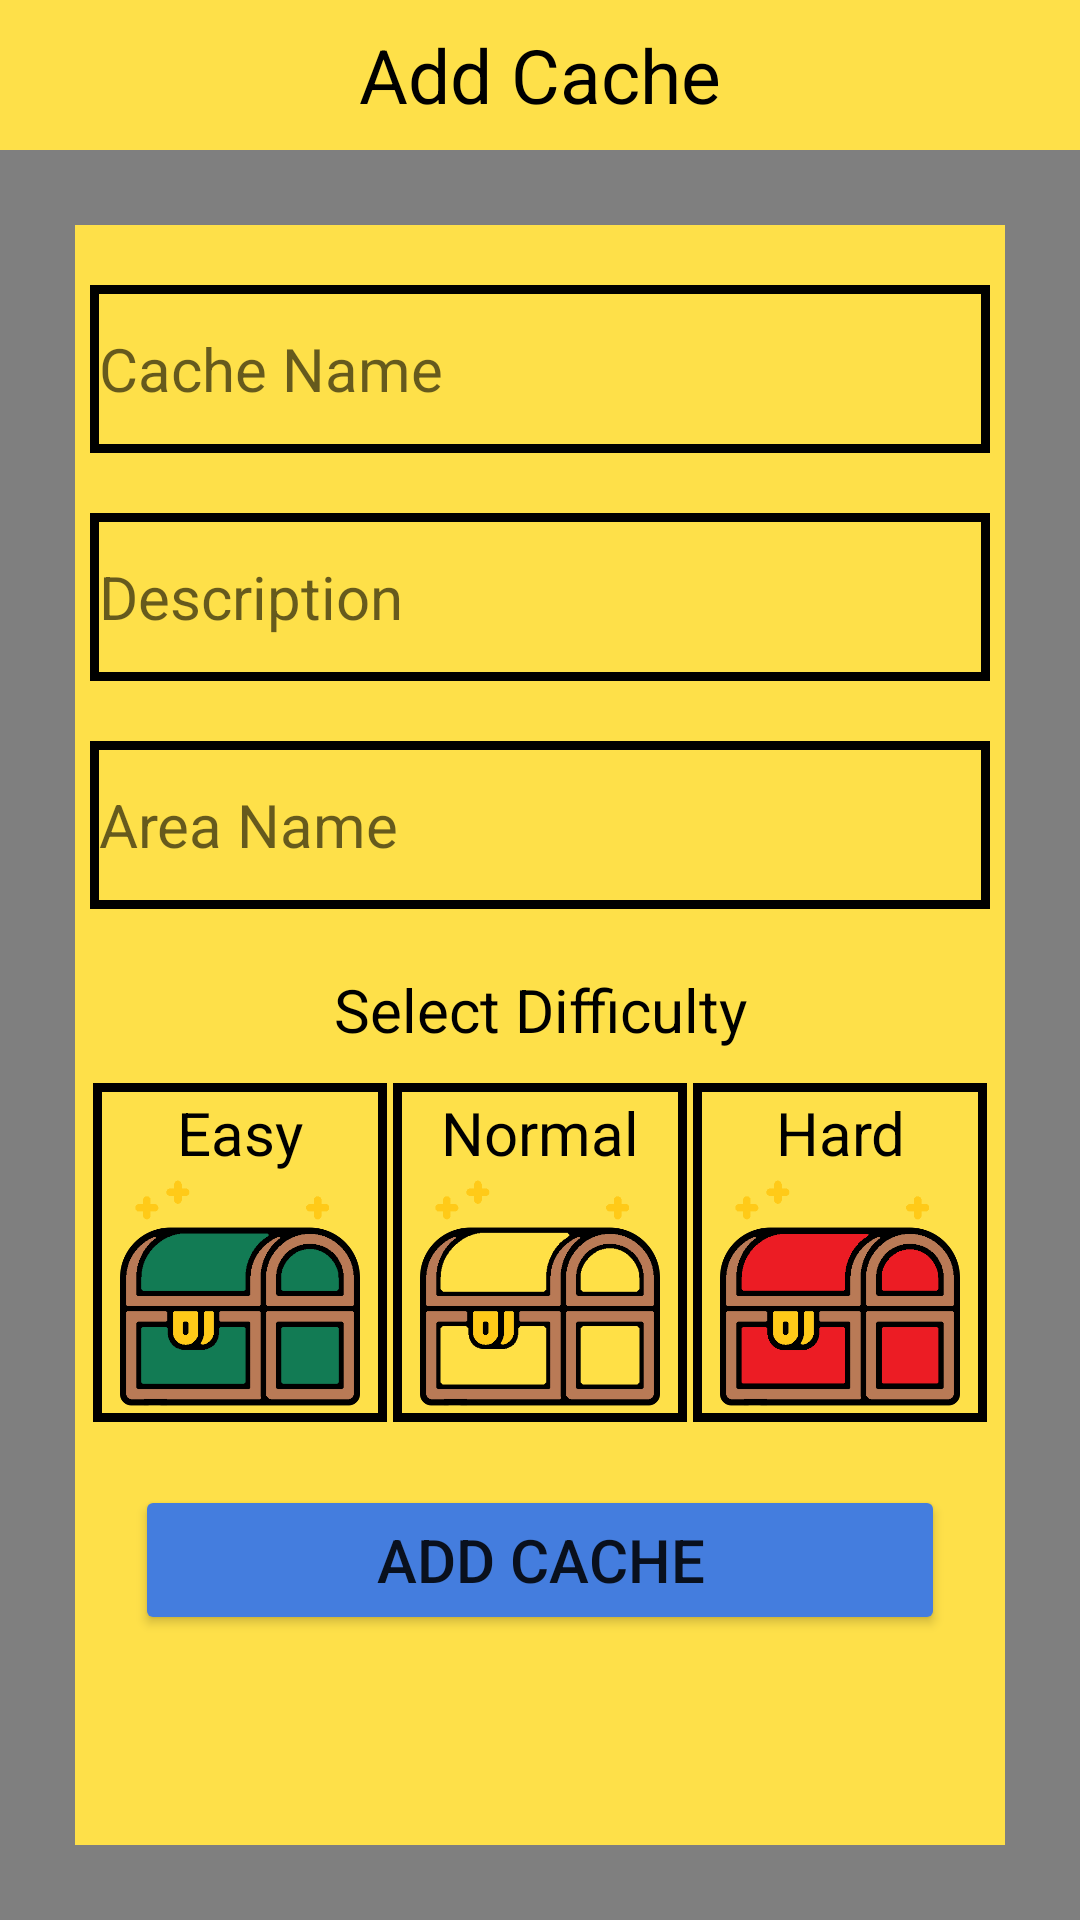

Locate icon controls on the screen. Image size 1080w x 1920h, boxes as bbox(x1, y1, x2, y2).
map cache: bbox(420, 1181, 660, 1406)
